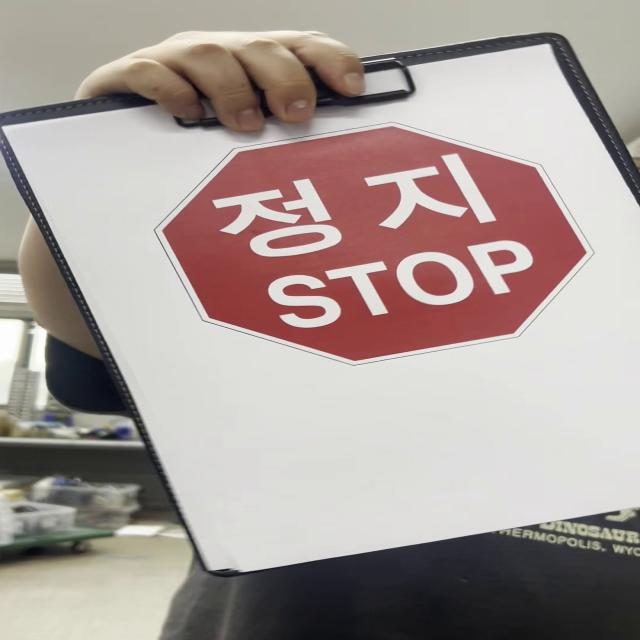stop: (146, 123, 595, 363)
